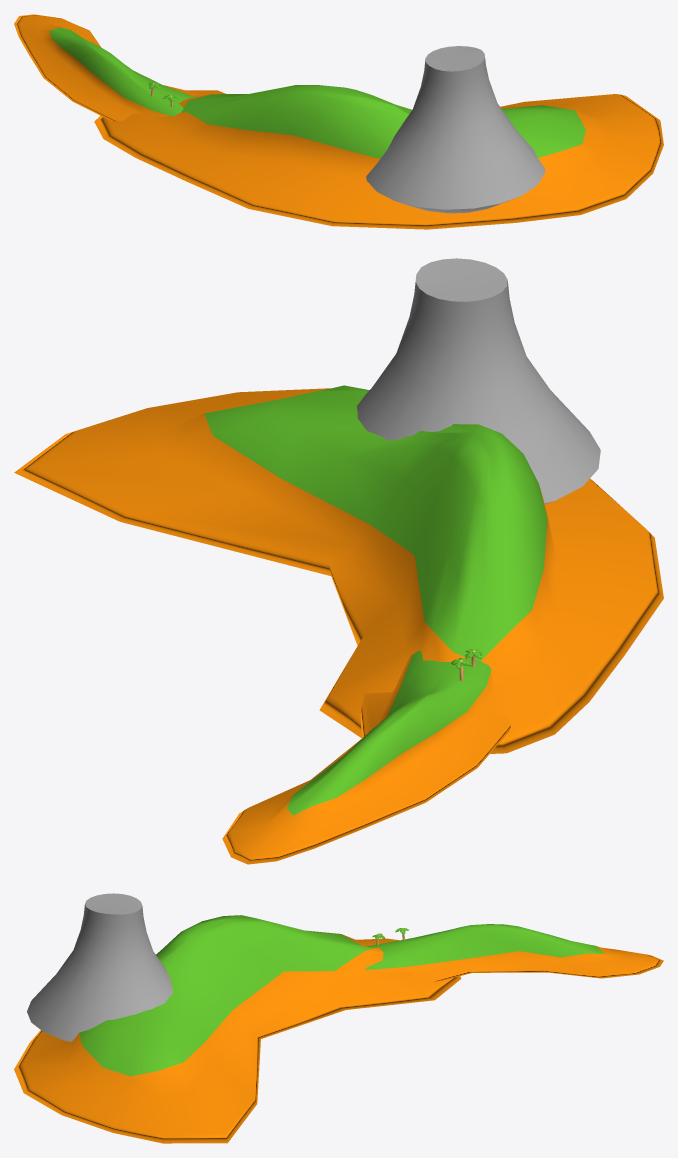
Rendered from IslaTocha.fbx.
3 views of the same model, one above another, from view 1: azimuth 30°, elevation 25°; view 2: azimuth 150°, elevation 25°; view 3: azimuth 270°, elevation 25° (orthographic). The views are drawn at different scales.
Parts seen in each view (by area): view 1: polySurface1563; view 2: polySurface1563; view 3: polySurface1563.
Boxes of the visible parts, <box> form: polySurface1563: <box>14,14,663,229</box>; polySurface1563: <box>14,258,663,864</box>; polySurface1563: <box>14,893,663,1143</box>.
Bounding box in the file's own units: 35017 × 12685 × 47108.
